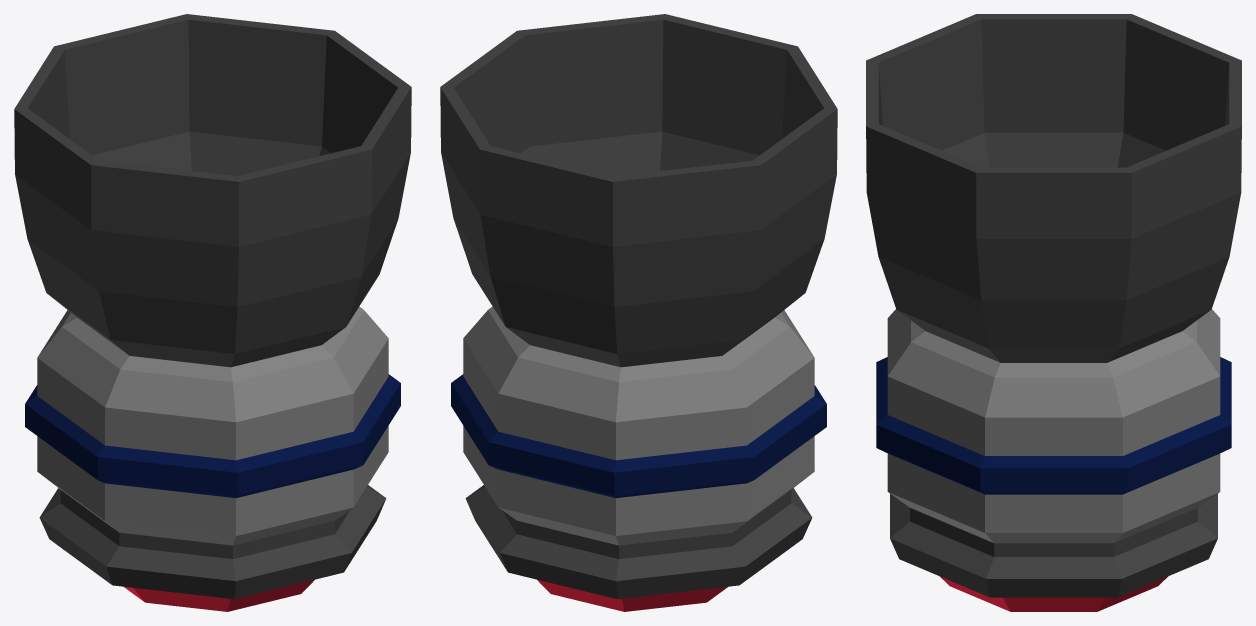
The model's file is thruster2.fbx.
3 renders of one model, left to right at view 1: azimuth 30°, elevation 25°; view 2: azimuth 150°, elevation 25°; view 3: azimuth 270°, elevation 25°, orthographic.
Parts seen in each view (by area): view 1: Thruster2; view 2: Thruster2; view 3: Thruster2.
Boxes of the visible parts, left/top/right/bottom form: Thruster2: left=14, top=14, right=411, bottom=611; Thruster2: left=440, top=14, right=837, bottom=611; Thruster2: left=866, top=14, right=1241, bottom=611.
Bounding box in the file's own units: 119 × 166 × 119.
